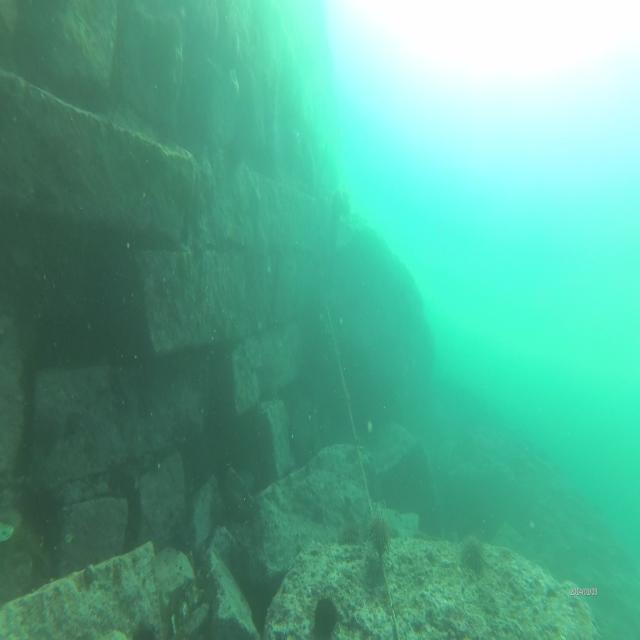echinus: (312, 591, 340, 638), (461, 531, 487, 576), (368, 508, 392, 554), (339, 515, 364, 552)
